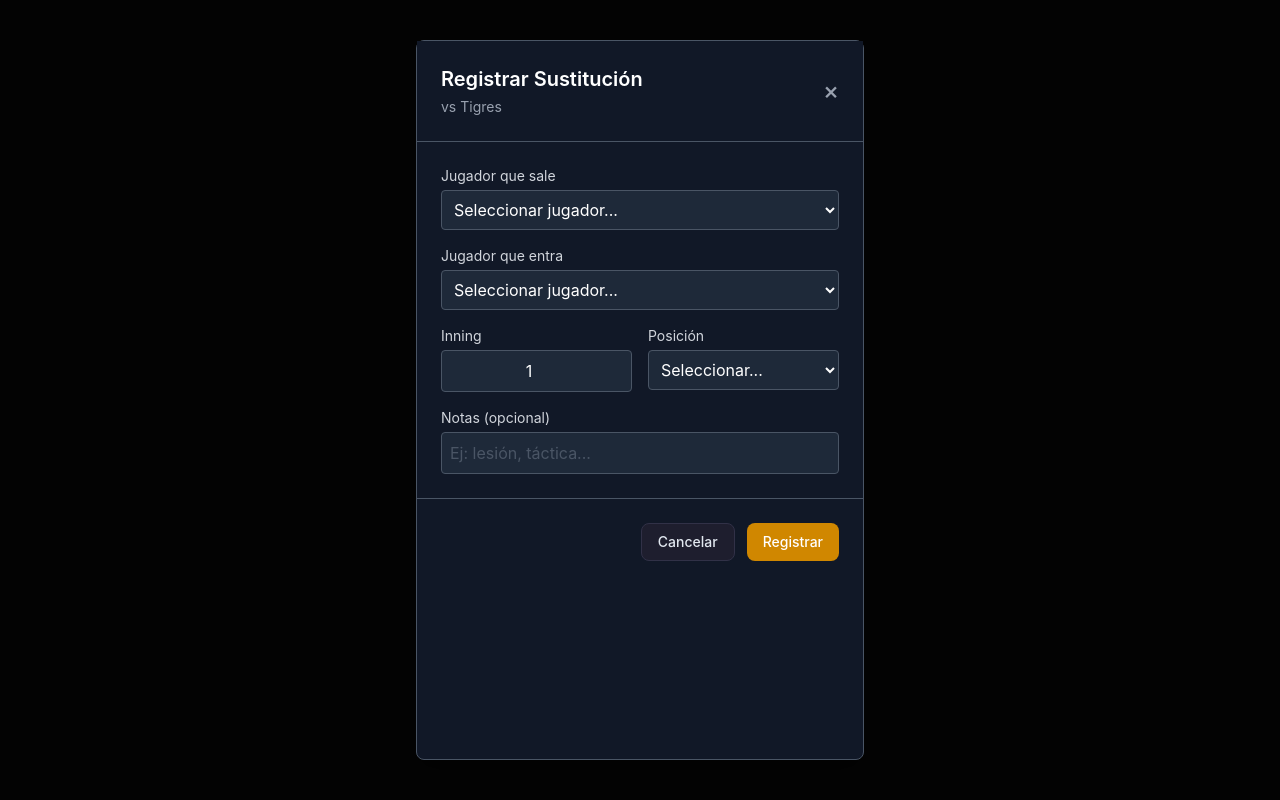
it: SubstitutionModal — herencia de posición › hereda la posición P al seleccionar al pitcher
Select "Bat #2 — #10 Pedro López (P)" in the dropdown below "Jugador que sale": coordinates (640, 210) [441,190,839,230]
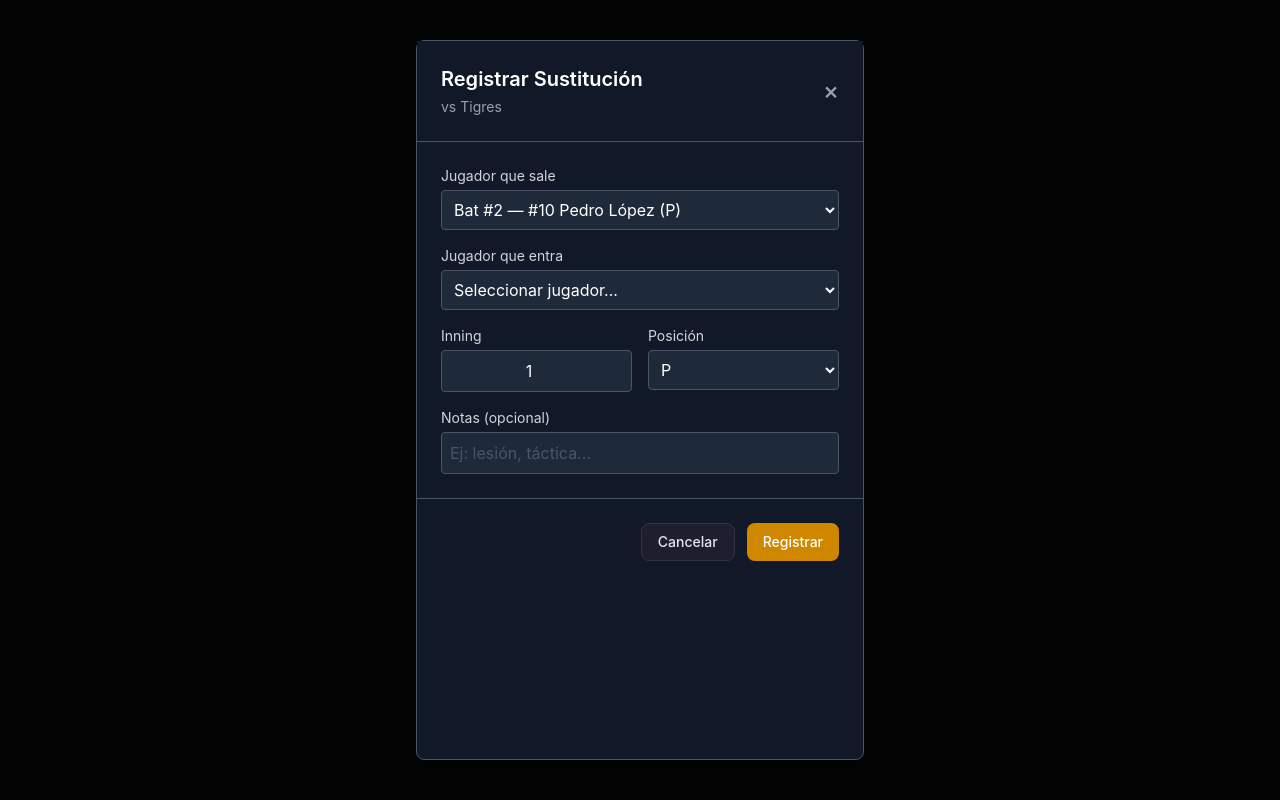
Now the dropdown below "Posición" shows "P", box [648,350,839,390]
